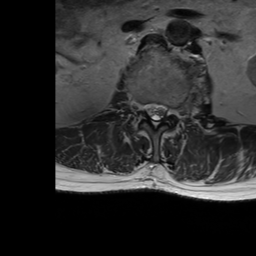CCS_normal: (151, 95, 159, 133)
LFS_stenosis: (167, 100, 174, 121)
LLS_normal: (159, 99, 167, 123)
RFS_normal: (135, 93, 143, 119)
RLS_normal: (143, 96, 151, 120)
